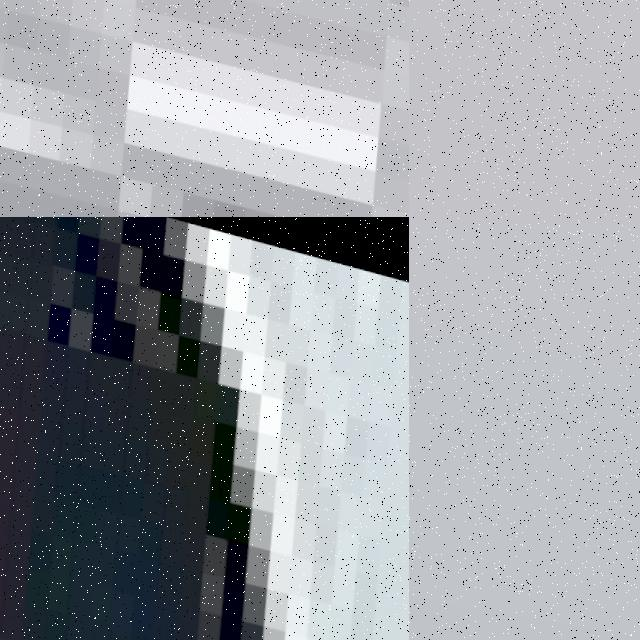0: (0, 0, 409, 217)
drone: (0, 217, 409, 640)
